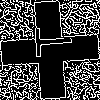T: (25, 25, 73, 59)
